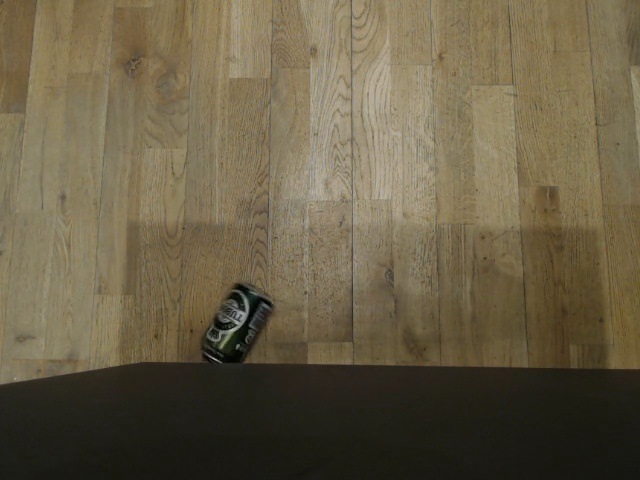beer: (186, 270, 281, 367)
